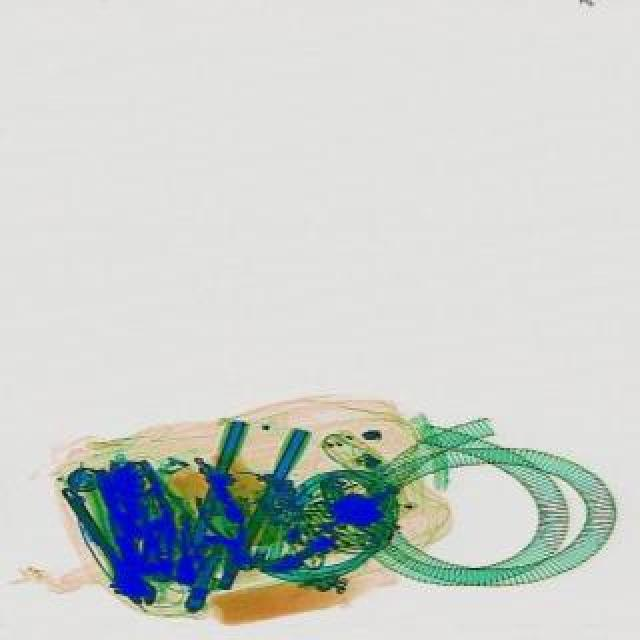scissors: (48, 480, 160, 612)
